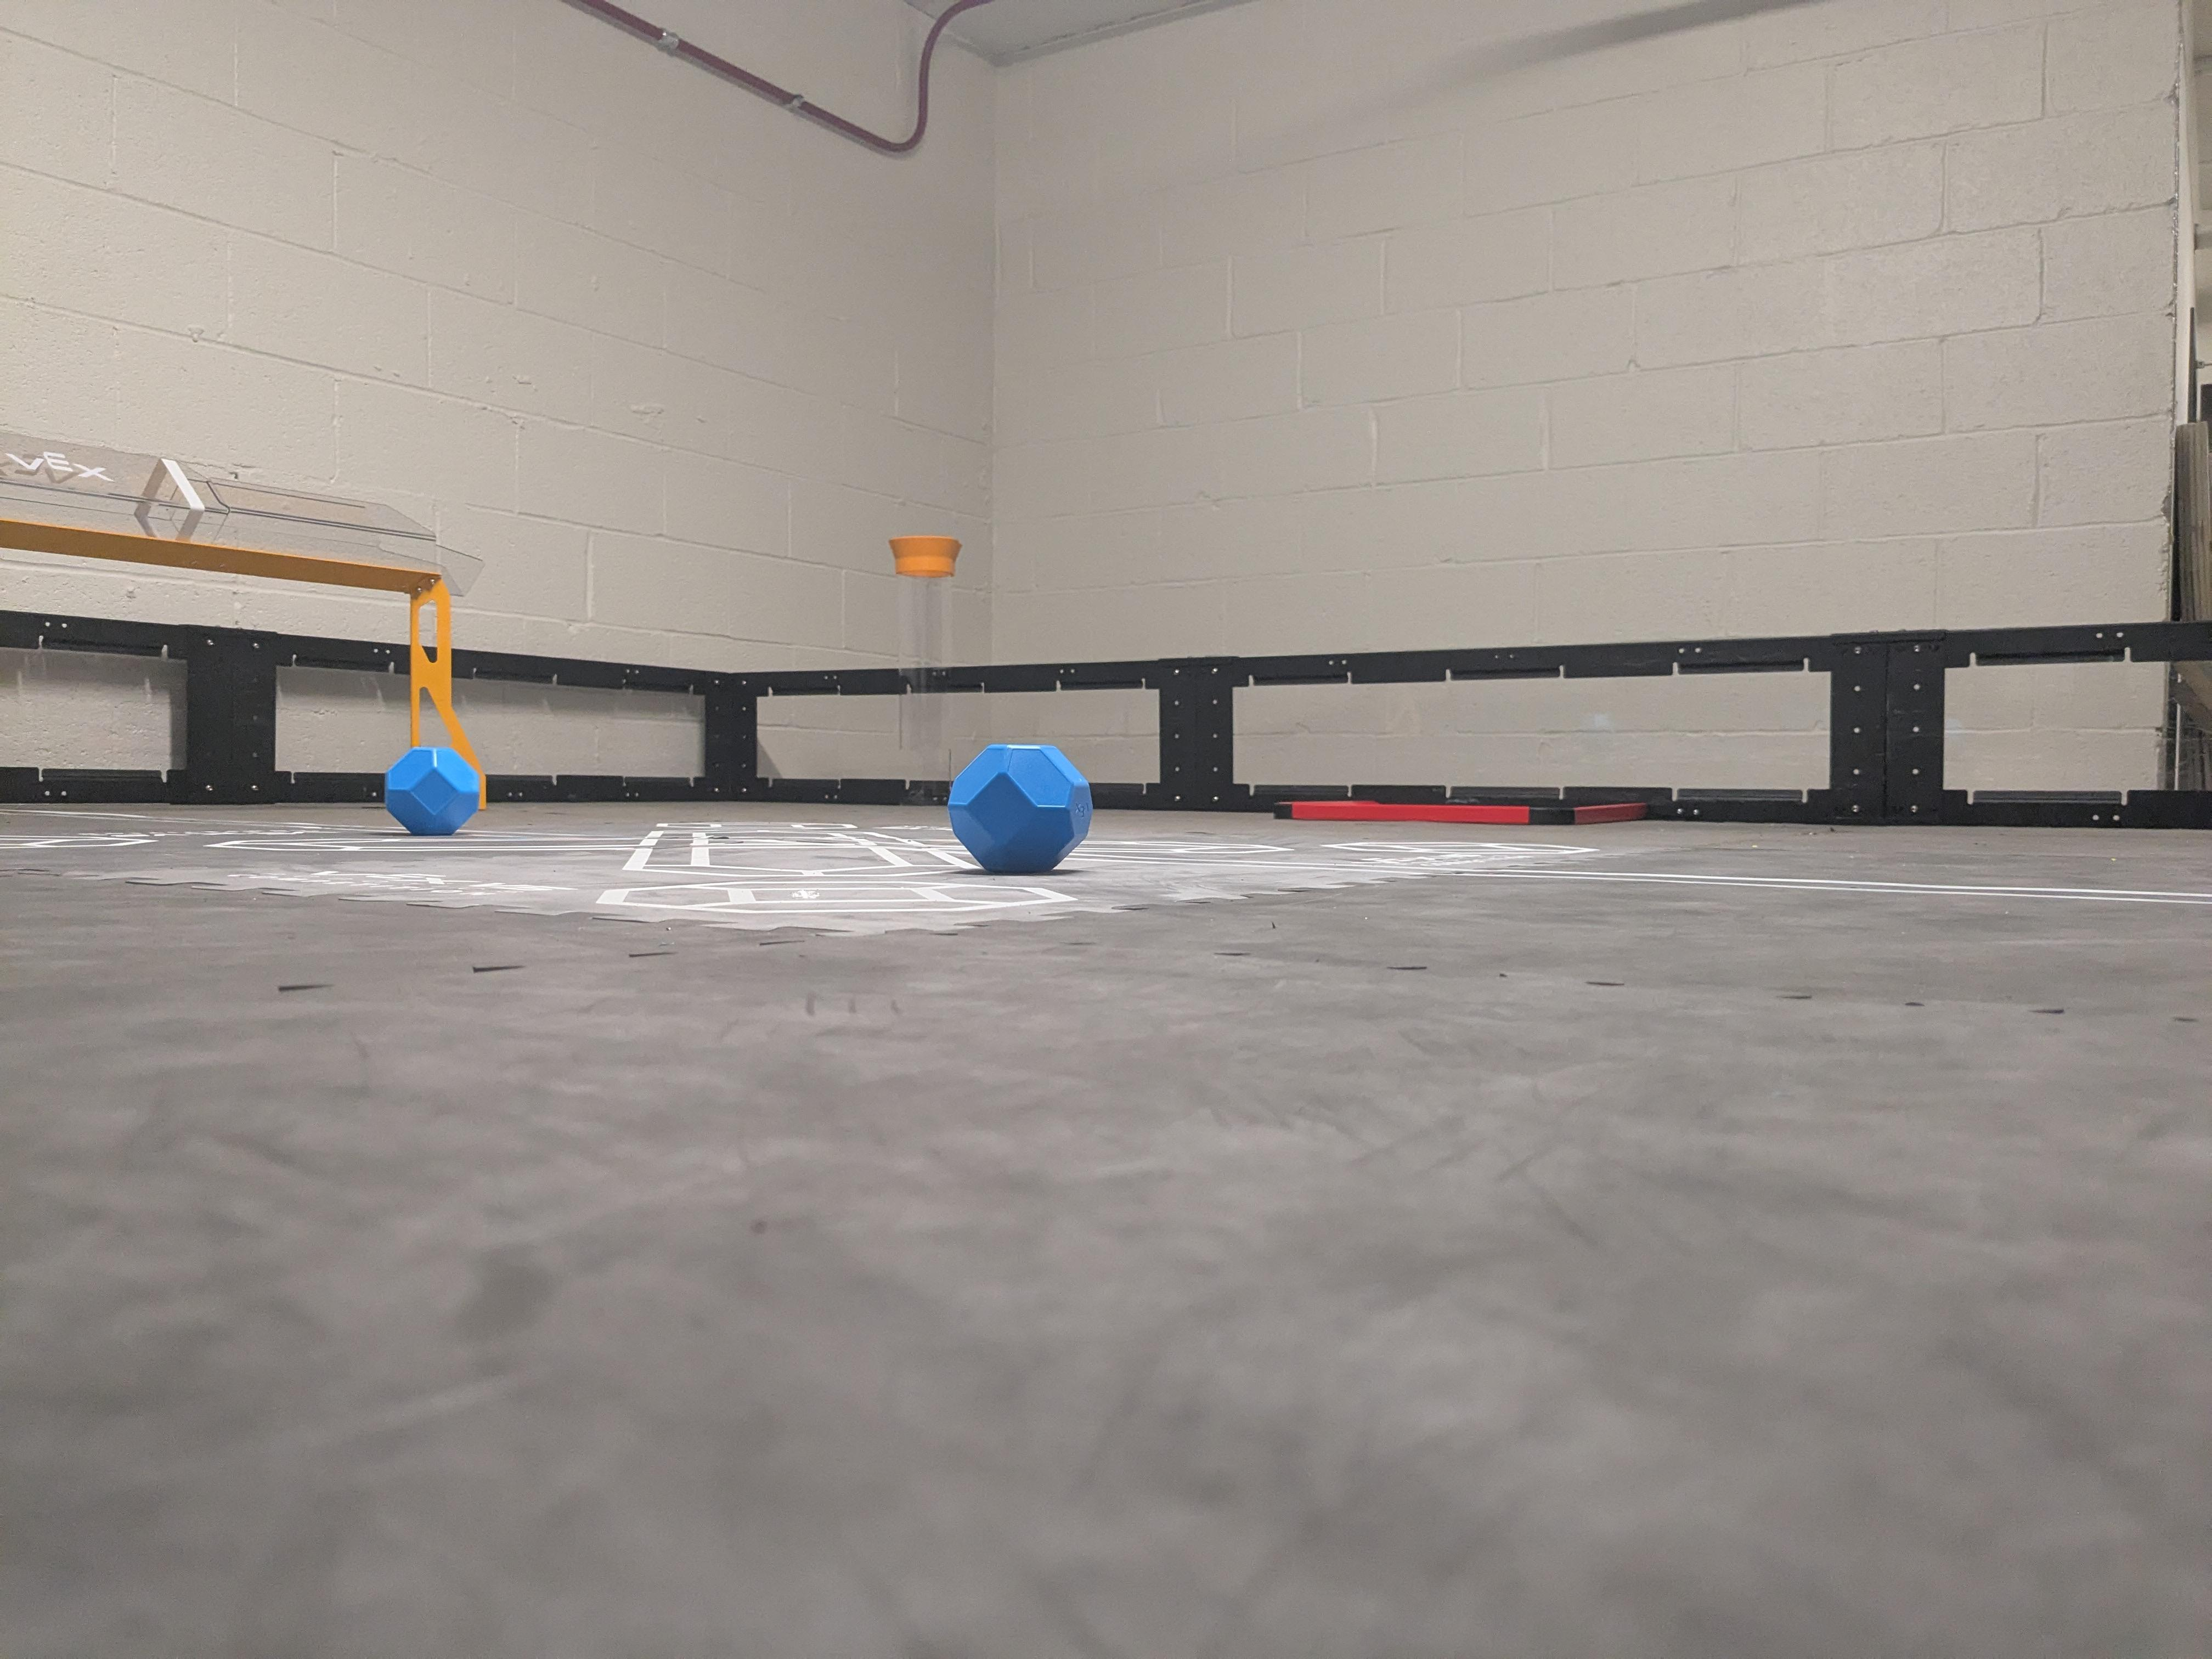Vex-Pieces-BLUE: (948, 741, 1089, 868), (387, 749, 479, 836)
